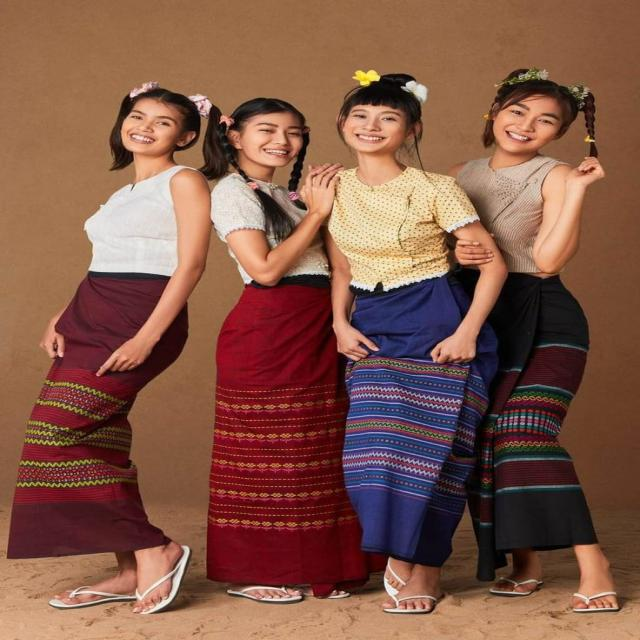female-dress: (10, 184, 193, 560), (322, 170, 488, 563), (466, 158, 606, 560), (216, 183, 350, 594)
